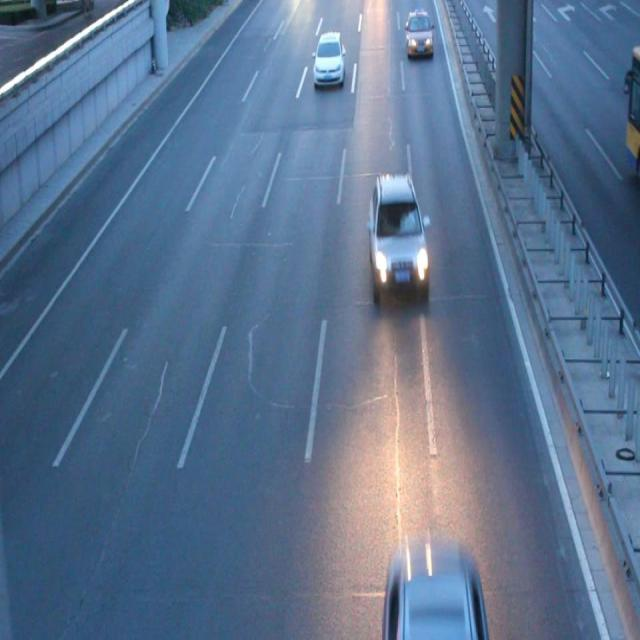car: (385, 545, 486, 640), (366, 175, 428, 299), (312, 31, 344, 85), (404, 10, 433, 56)
